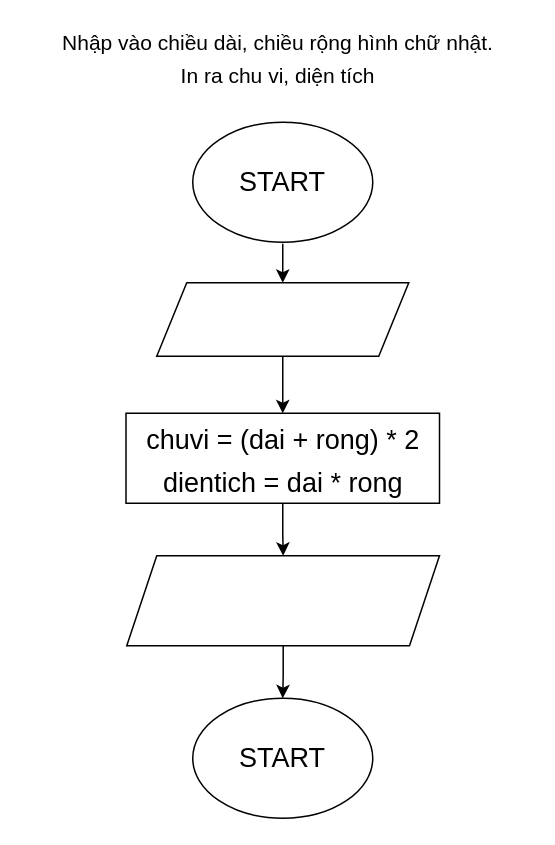
Some shapes in this 555 by 845 pixel diagram are drawn without their labels. The shapes that lost their labels are listed below. From the top down, each one's centre as x and y in pixels, then its label:
At point 282,318: "INPUT dai, rong".
At point 282,600: "OUTPUT chuvi, dientich".
